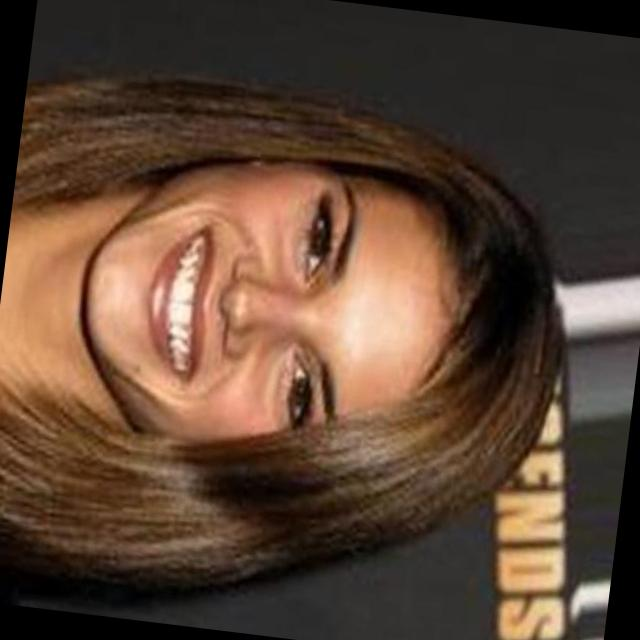bareface: (57, 120, 594, 532)
